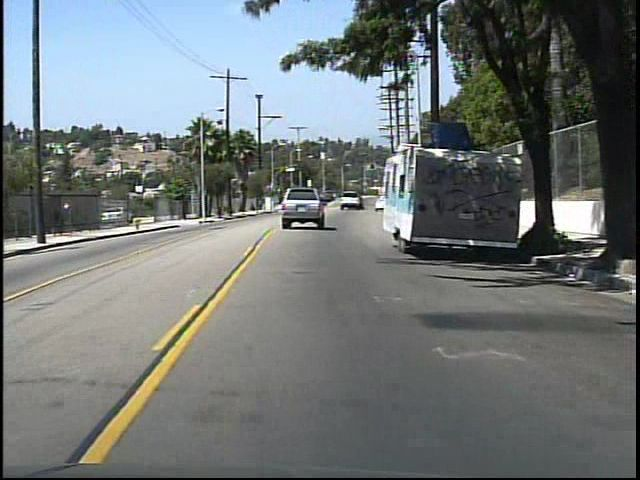car: (280, 187, 324, 230), (337, 190, 362, 213)
strada: (7, 238, 582, 475)
